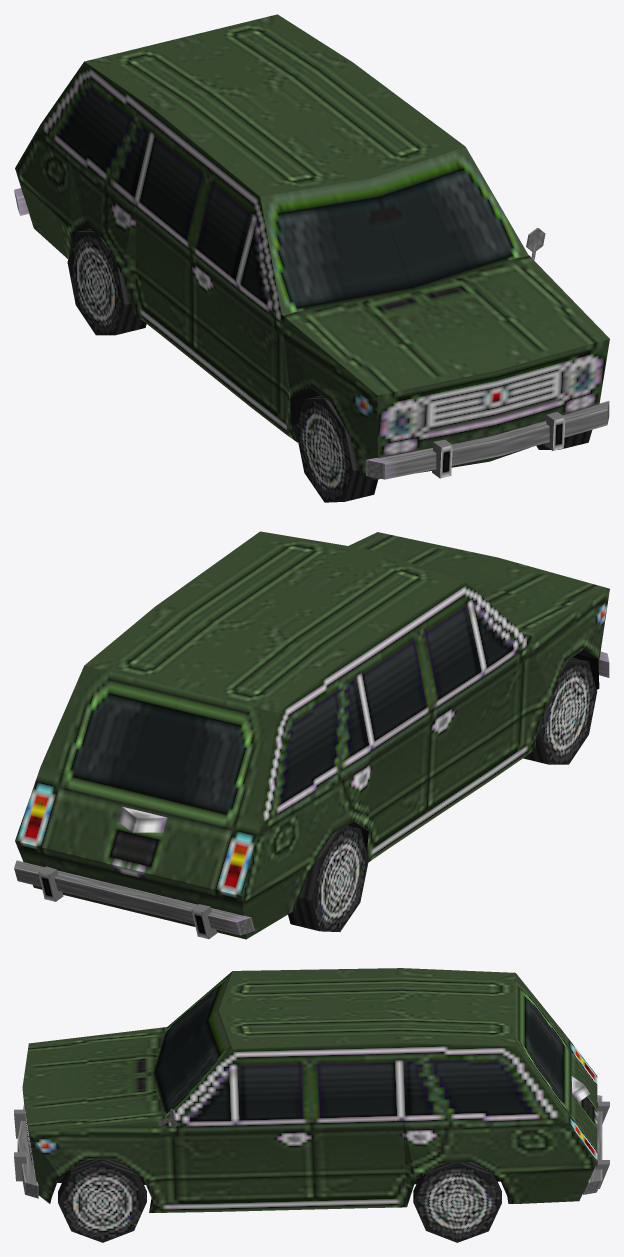
The model's file is Auto2verde.fbx.
3 renders of one model, top to bottom at view 1: azimuth 30°, elevation 25°; view 2: azimuth 150°, elevation 25°; view 3: azimuth 270°, elevation 25°, orthographic. The views are drawn at different scales.
Visible parts, largest first — view 1: Car; view 2: Car; view 3: Car.
Part boxes in pixels (box(x1,y1,x2,y2)): Car: box(14, 14, 609, 502); Car: box(14, 531, 609, 939); Car: box(14, 968, 609, 1242).
Bounding box in the file's own units: 256 × 217 × 615.
